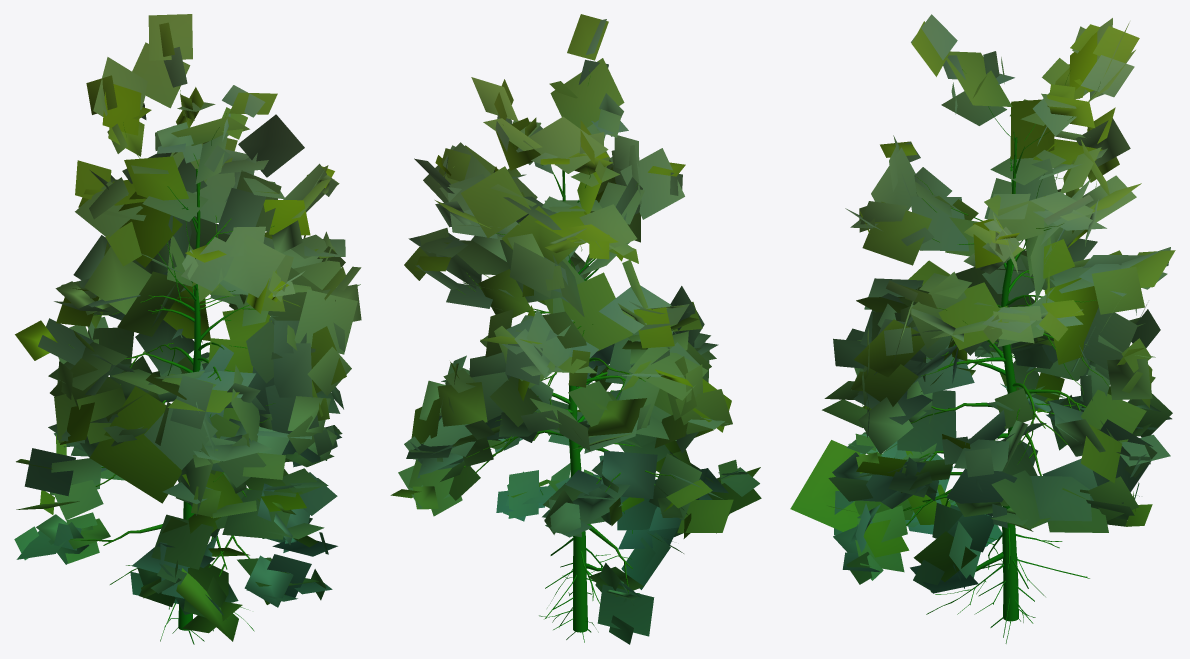
The model's file is pine_sapling_medium_2.glb.
The picture shows the model from 3 angles, left to right: view 1: azimuth 30°, elevation 25°; view 2: azimuth 150°, elevation 25°; view 3: azimuth 270°, elevation 25°; orthographic projection. The views are drawn at different scales.
Parts seen in each view (by area): view 1: pine_sapling_medium_2_cards, pine_sapling_medium_2_trunk; view 2: pine_sapling_medium_2_cards, pine_sapling_medium_2_trunk; view 3: pine_sapling_medium_2_cards, pine_sapling_medium_2_trunk.
Part boxes in pixels (x1,y1,x2,y2): pine_sapling_medium_2_cards: (14,14,361,641); pine_sapling_medium_2_trunk: (68,87,275,644); pine_sapling_medium_2_cards: (390,14,761,644); pine_sapling_medium_2_trunk: (457,69,676,642); pine_sapling_medium_2_cards: (790,14,1175,593); pine_sapling_medium_2_trunk: (894,69,1110,643).
Size of the model in its own units: 4.04 by 7.07 by 3.93.
